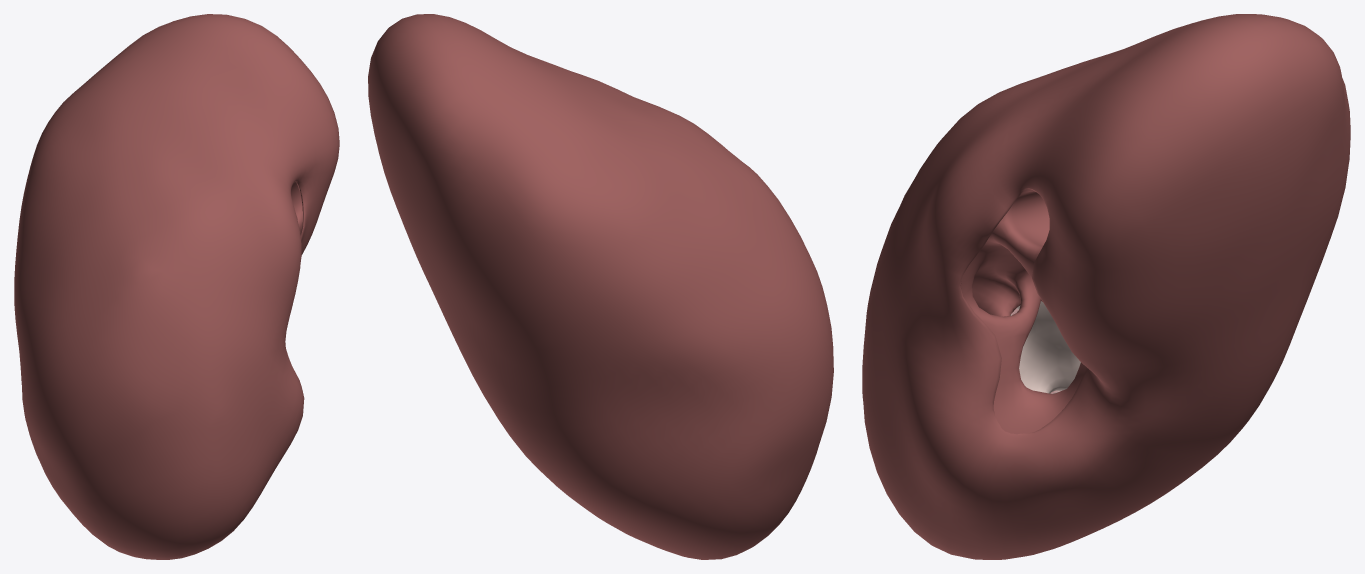
File: kidney-female-right.glb
3 views of the same model, side by side, from view 1: azimuth 30°, elevation 25°; view 2: azimuth 150°, elevation 25°; view 3: azimuth 270°, elevation 25° (orthographic). The views are drawn at different scales.
Parts seen in each view (by area): view 1: VH_F_kidney_capsule_R; view 2: VH_F_kidney_capsule_R; view 3: VH_F_kidney_capsule_R, VH_F_hilum_of_kidney_R, VH_F_renal_column_R.
Part boxes in pixels (x1,y1,x2,y2): VH_F_kidney_capsule_R: (14, 14, 339, 559); VH_F_kidney_capsule_R: (368, 14, 833, 559); VH_F_kidney_capsule_R: (862, 14, 1350, 559); VH_F_hilum_of_kidney_R: (960, 189, 1086, 434); VH_F_renal_column_R: (1010, 301, 1080, 393).
Size of the model in its own units: 0.0734 by 0.0979 by 0.0695.
